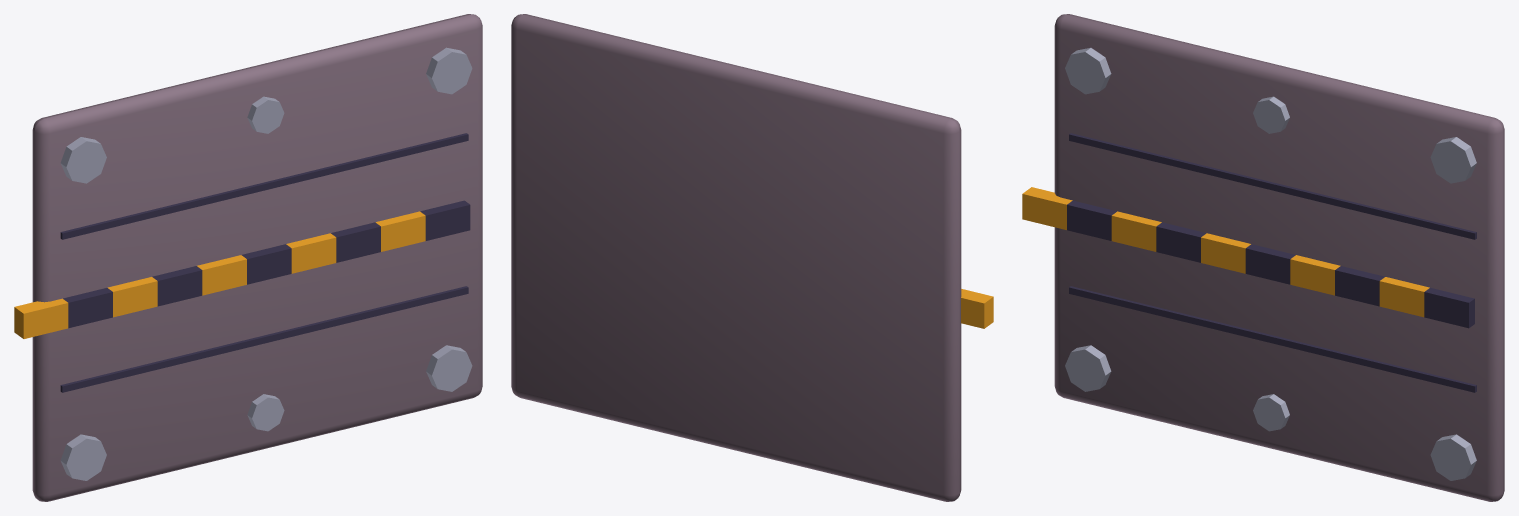
File: patch_plate.glb
The picture shows the model from 3 angles, left to right: view 1: azimuth 30°, elevation 25°; view 2: azimuth 150°, elevation 25°; view 3: azimuth 330°, elevation 25°; orthographic projection.
Visible parts, largest first — view 1: patch_plate; view 2: patch_plate; view 3: patch_plate.
Part boxes in pixels (x1,y1,x2,y2): patch_plate: [14, 14, 482, 501]; patch_plate: [511, 14, 993, 501]; patch_plate: [1022, 14, 1504, 501].
Size of the model in its own units: 1.16 by 0.9 by 0.075.
